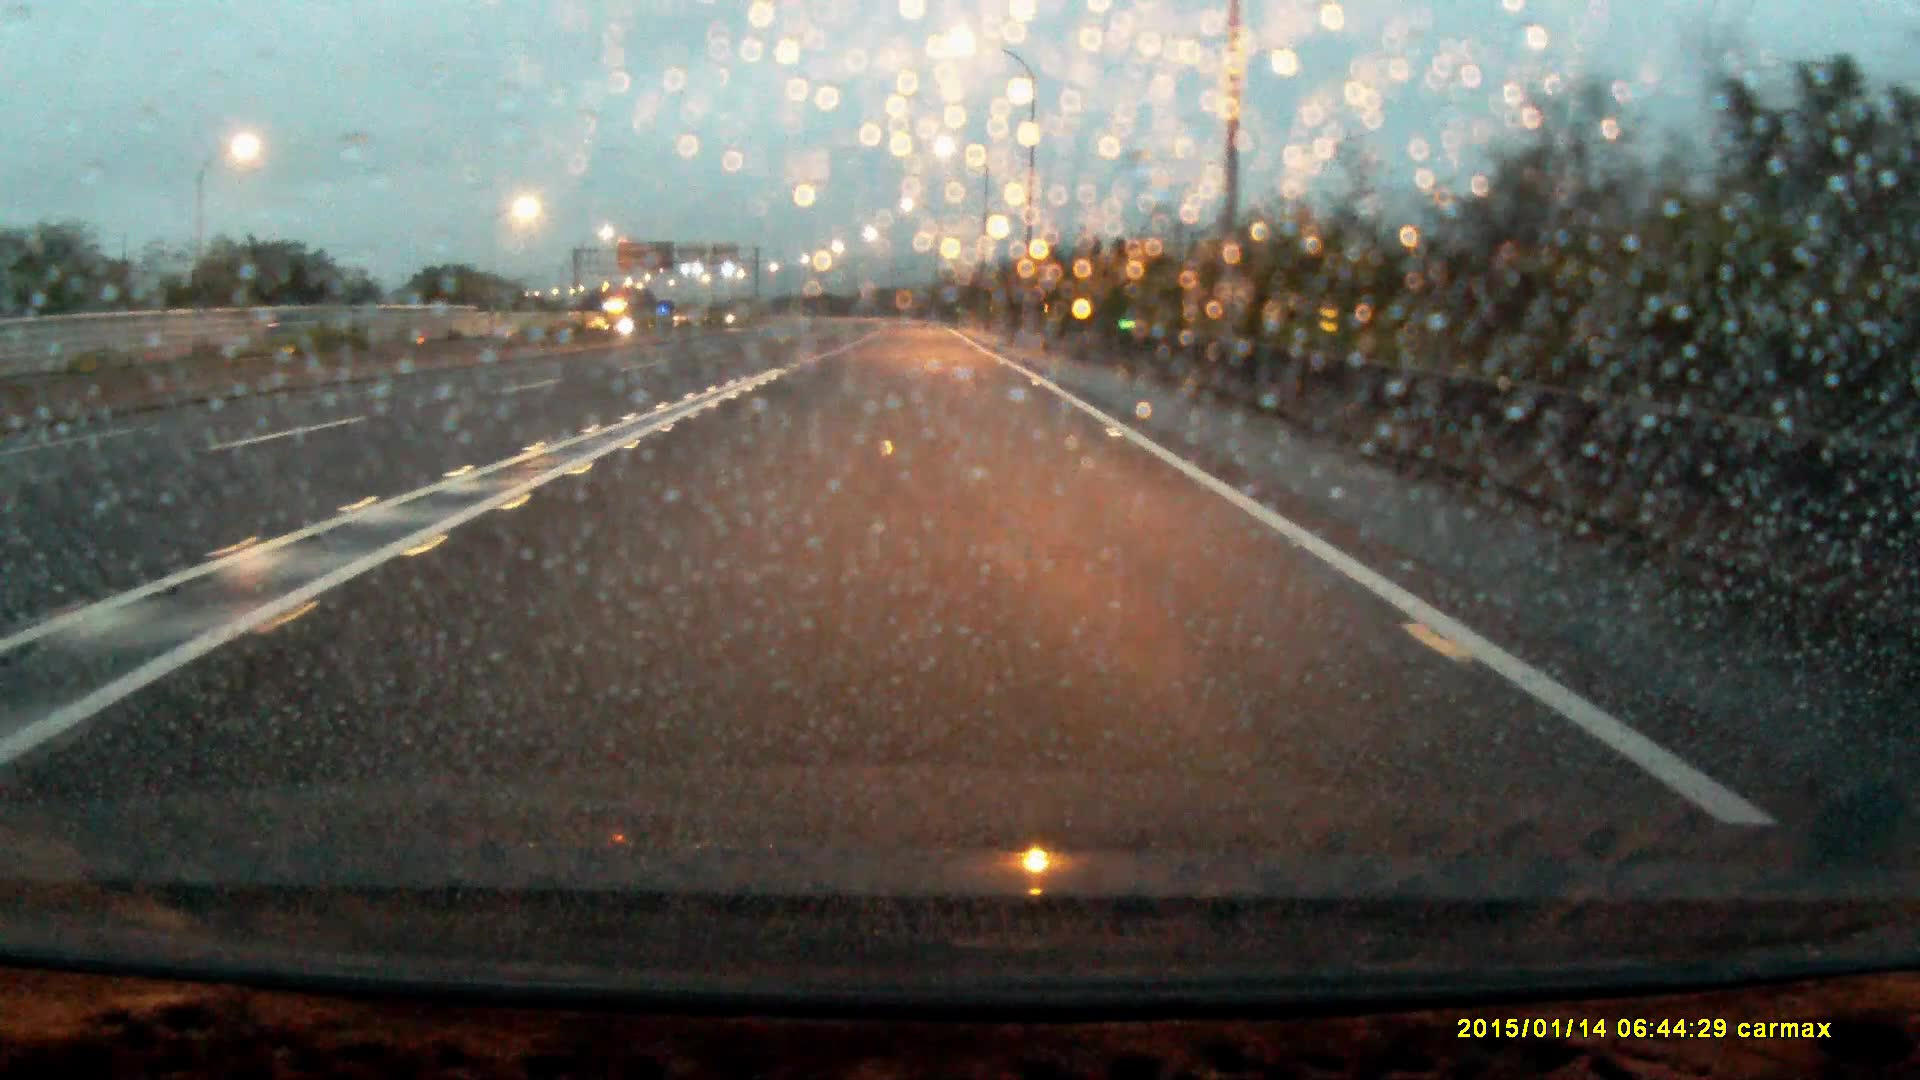vehicle: (599, 295, 638, 336)
